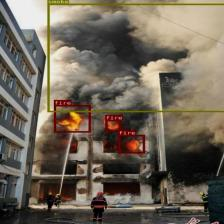fire: (54, 105, 90, 132), (118, 134, 144, 153), (105, 120, 120, 131)
smoke: (47, 3, 224, 112)
